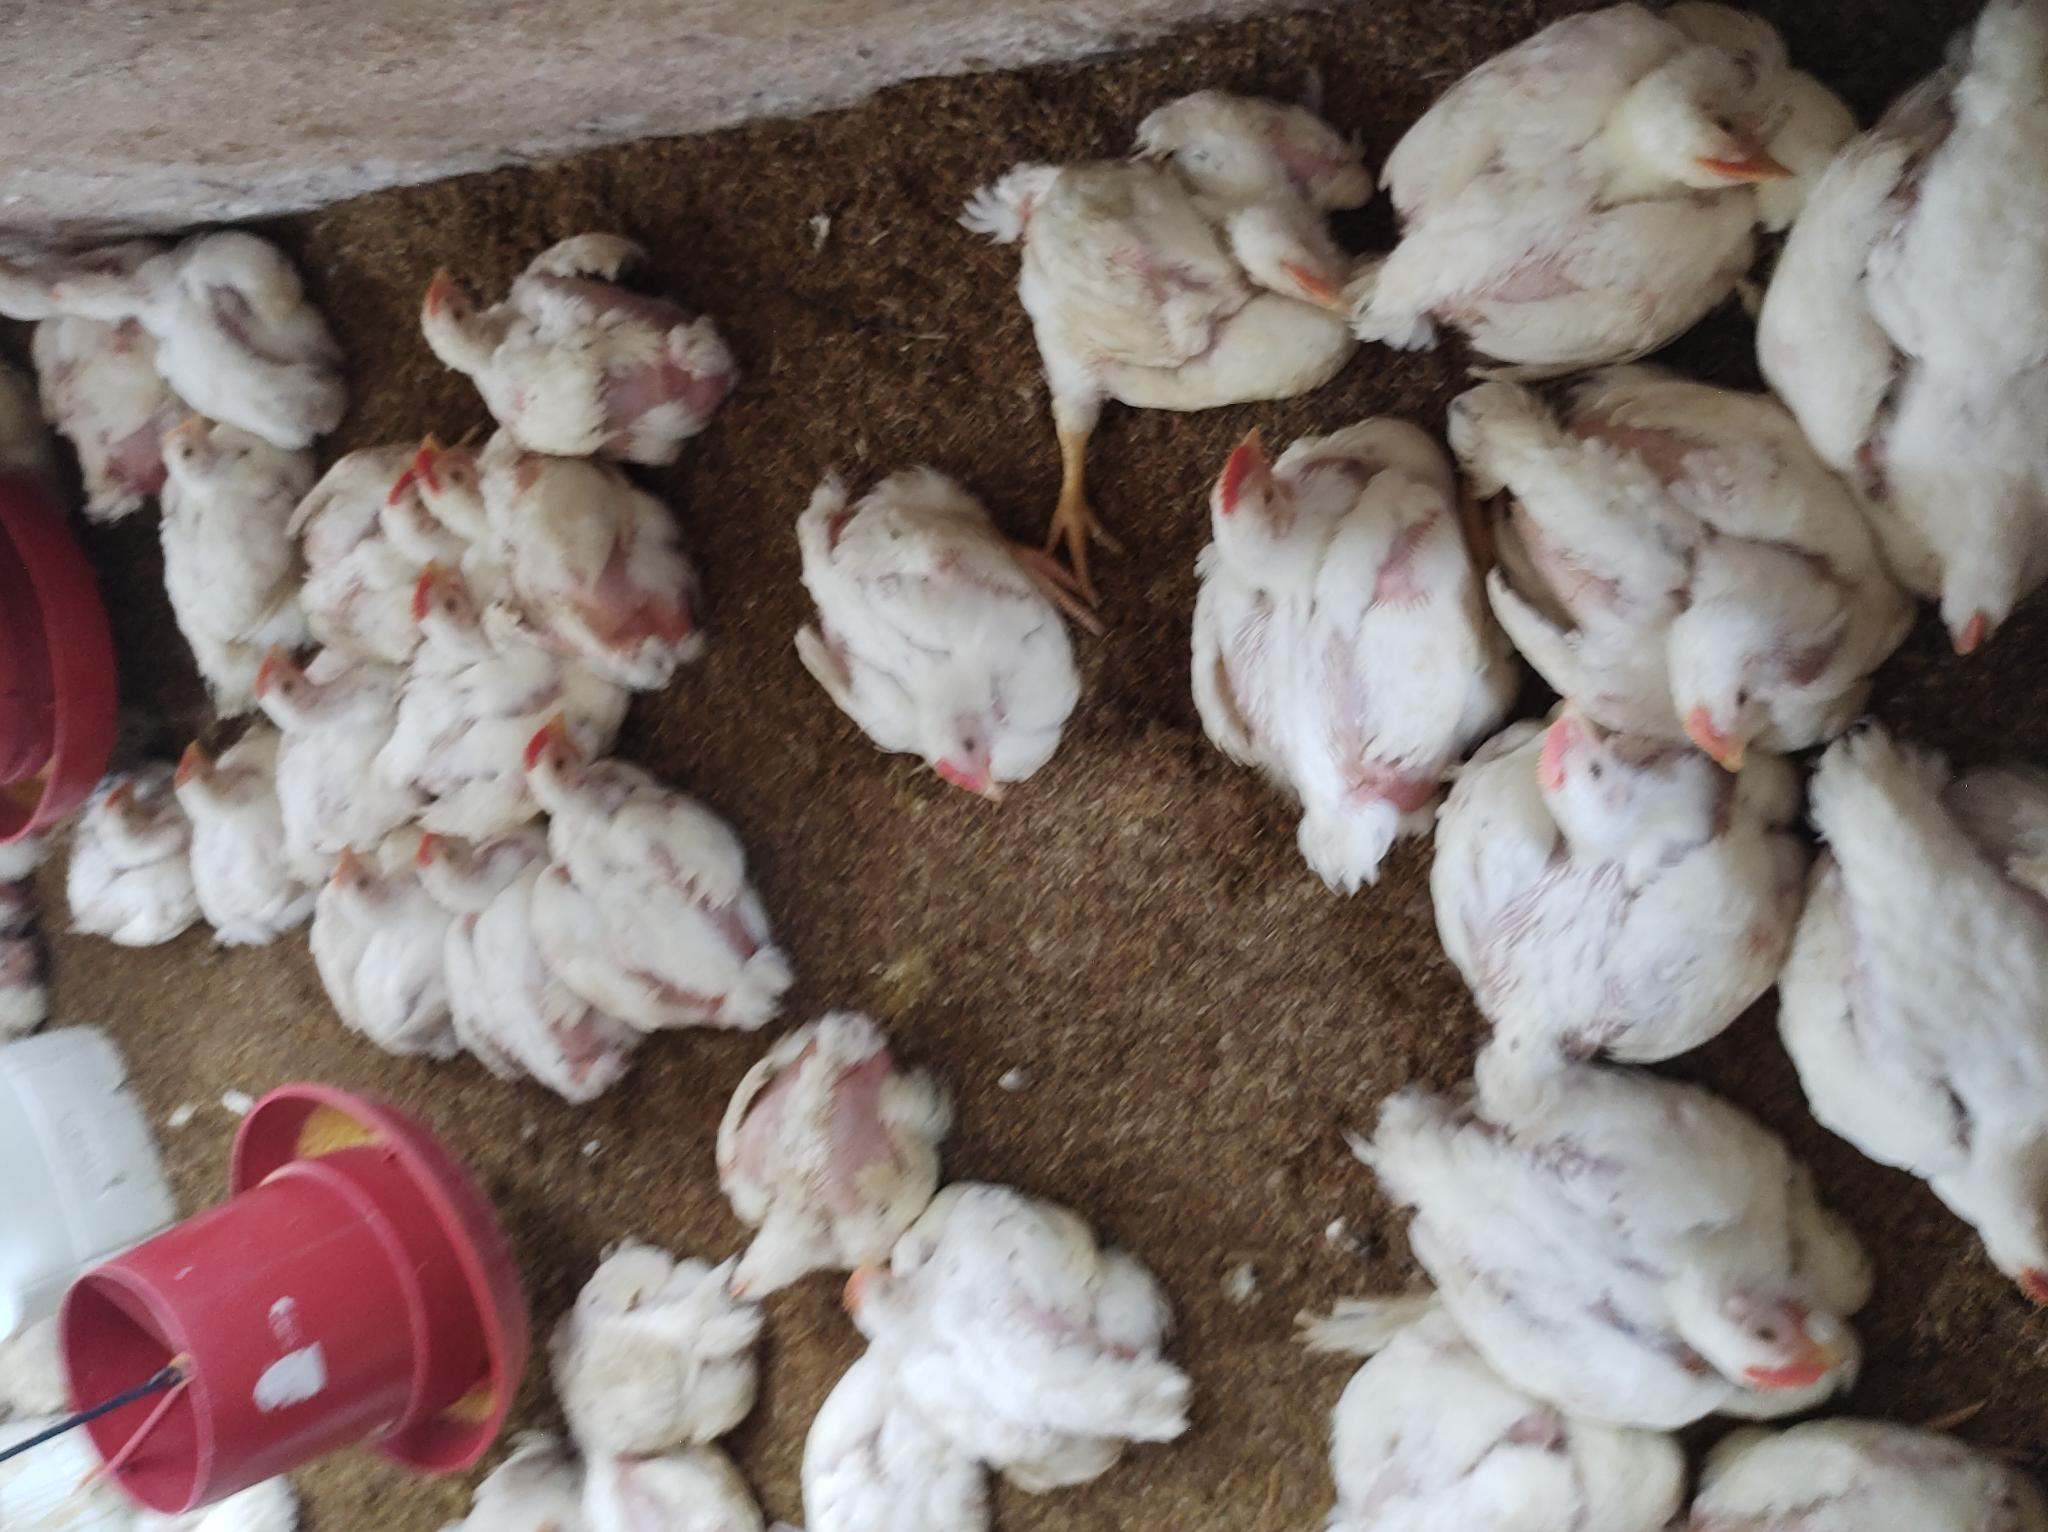Pollos: (1086, 975, 1477, 1361), (709, 1143, 1131, 1464), (700, 792, 1108, 1093), (26, 842, 331, 1221), (179, 689, 550, 945), (510, 509, 811, 793), (1176, 1316, 1527, 1532), (1076, 409, 1302, 740), (116, 1361, 520, 1532), (1099, 39, 1314, 340), (846, 484, 1089, 735), (92, 505, 314, 760), (470, 1442, 838, 1532), (505, 402, 708, 549), (740, 233, 901, 367), (967, 142, 1117, 278), (581, 64, 753, 179), (504, 307, 693, 402), (663, 151, 808, 270), (999, 401, 1104, 500), (856, 402, 972, 489), (967, 360, 1067, 431)
